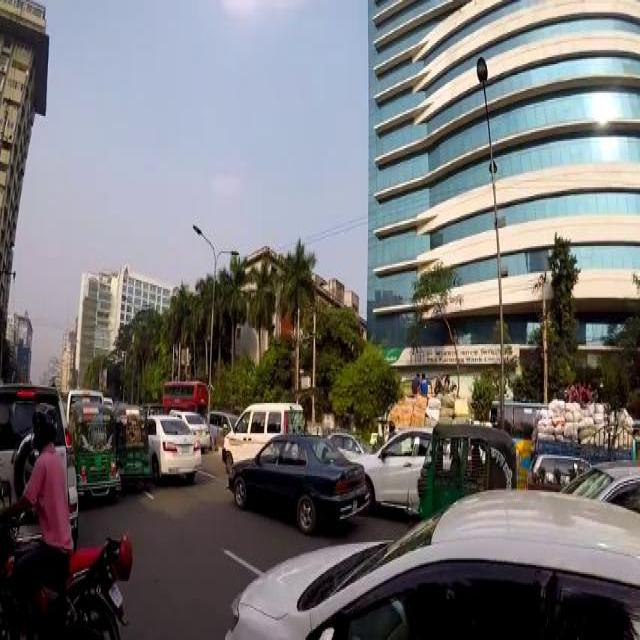bus: (488, 396, 540, 463), (160, 376, 205, 407)
car: (226, 485, 638, 633), (226, 426, 366, 521), (0, 380, 78, 538), (355, 424, 430, 504), (559, 458, 638, 508), (144, 412, 199, 472), (326, 424, 364, 458), (177, 412, 210, 447)
motorcycle: (0, 494, 128, 633), (69, 396, 121, 496), (113, 401, 150, 480)
truck: (220, 396, 306, 462), (61, 387, 102, 417)
